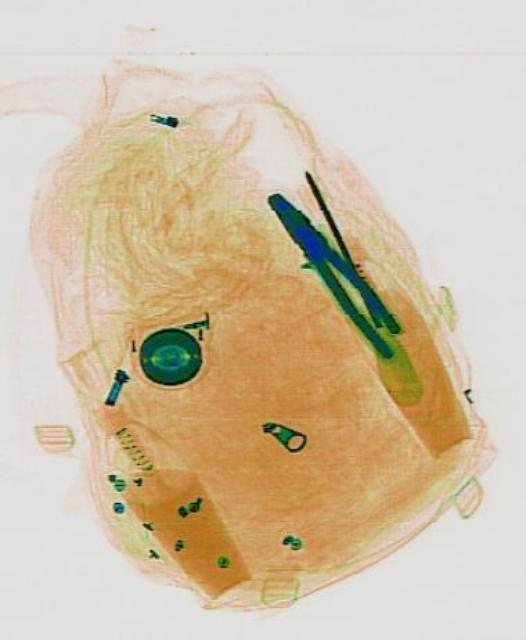Pliers: (256, 178, 410, 362)
